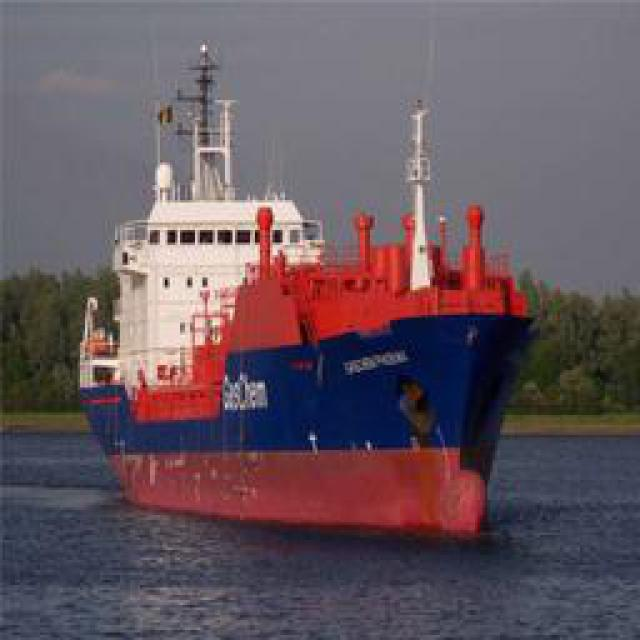Ship: (82, 61, 535, 541)
